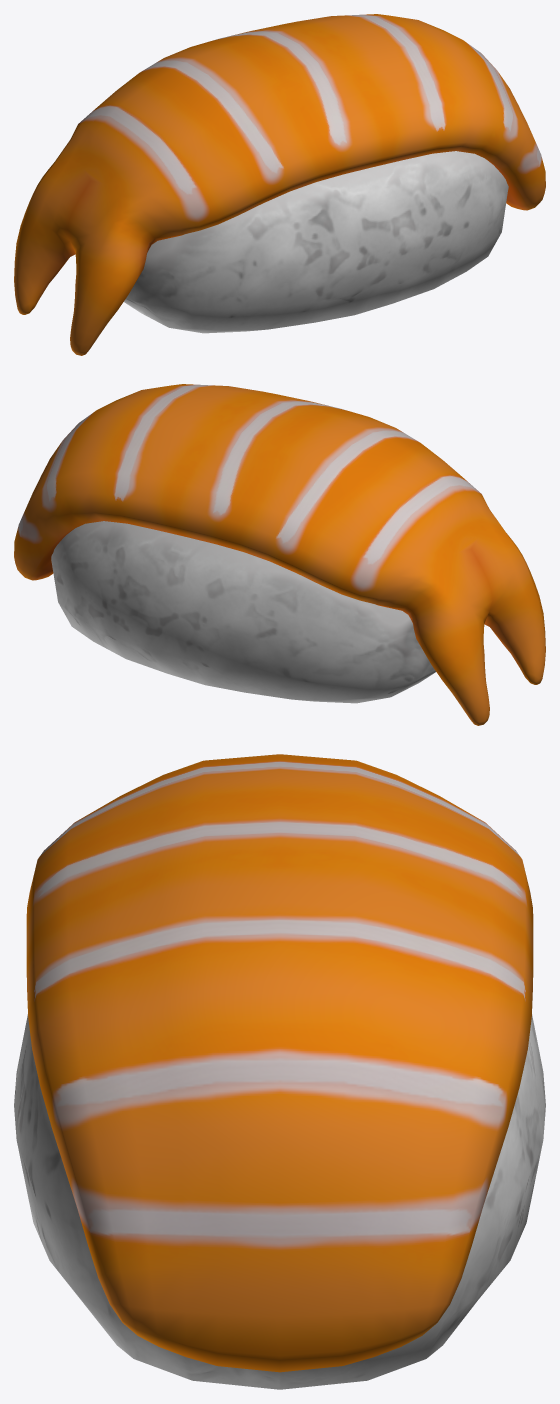
The model's file is SushiPiece.fbx.
The picture shows the model from 3 angles, top to bottom: view 1: azimuth 30°, elevation 25°; view 2: azimuth 150°, elevation 25°; view 3: azimuth 270°, elevation 25°; orthographic projection. The views are drawn at different scales.
Visible parts, largest first — view 1: SushiPiece.001; view 2: SushiPiece.001; view 3: SushiPiece.001.
Part boxes in pixels (<box>): SushiPiece.001: <box>14,14,545,355</box>; SushiPiece.001: <box>14,384,545,725</box>; SushiPiece.001: <box>14,754,545,1389</box>.
Bounding box in the file's own units: 8.54 × 4.44 × 4.65.
